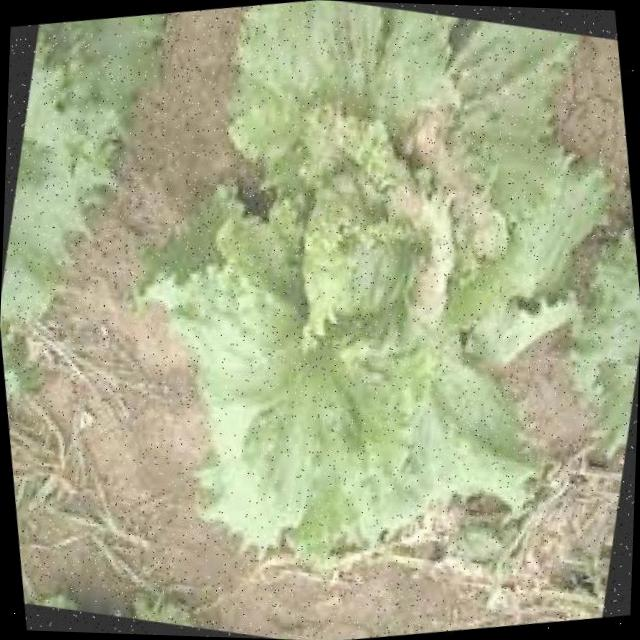Powdery_Mildew: (171, 0, 577, 548)
